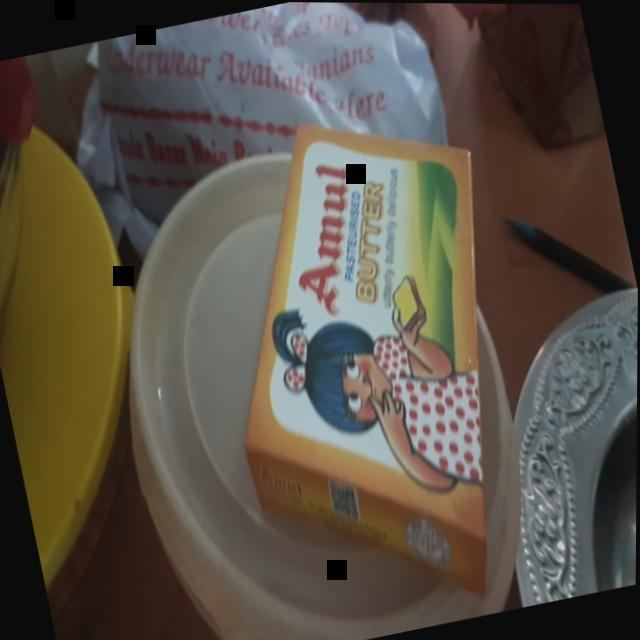butter: (176, 85, 587, 640)
